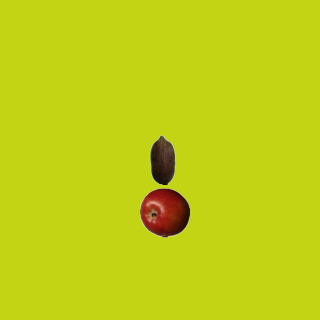Apple Braeburn: (139, 187, 189, 237)
Nut Pecan: (137, 134, 187, 184)
